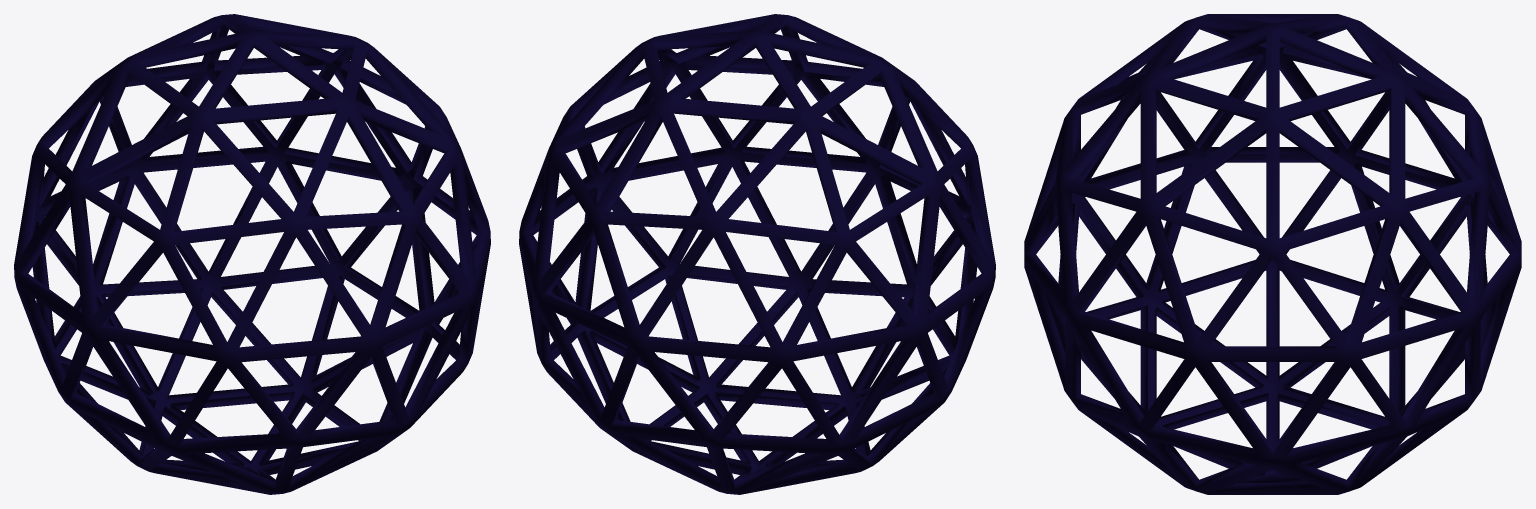
The model's file is OrbFrame.FBX.
3 renders of one model, left to right at view 1: azimuth 30°, elevation 25°; view 2: azimuth 150°, elevation 25°; view 3: azimuth 270°, elevation 25°, orthographic. The views are drawn at different scales.
Parts seen in each view (by area): view 1: GeoSphere001; view 2: GeoSphere001; view 3: GeoSphere001.
Boxes of the visible parts, x1=… form: GeoSphere001: x1=14, y1=14, x2=490, y2=494; GeoSphere001: x1=519, y1=14, x2=995, y2=494; GeoSphere001: x1=1024, y1=14, x2=1521, y2=494.
Size of the model in its own units: 190 by 197 by 196.
